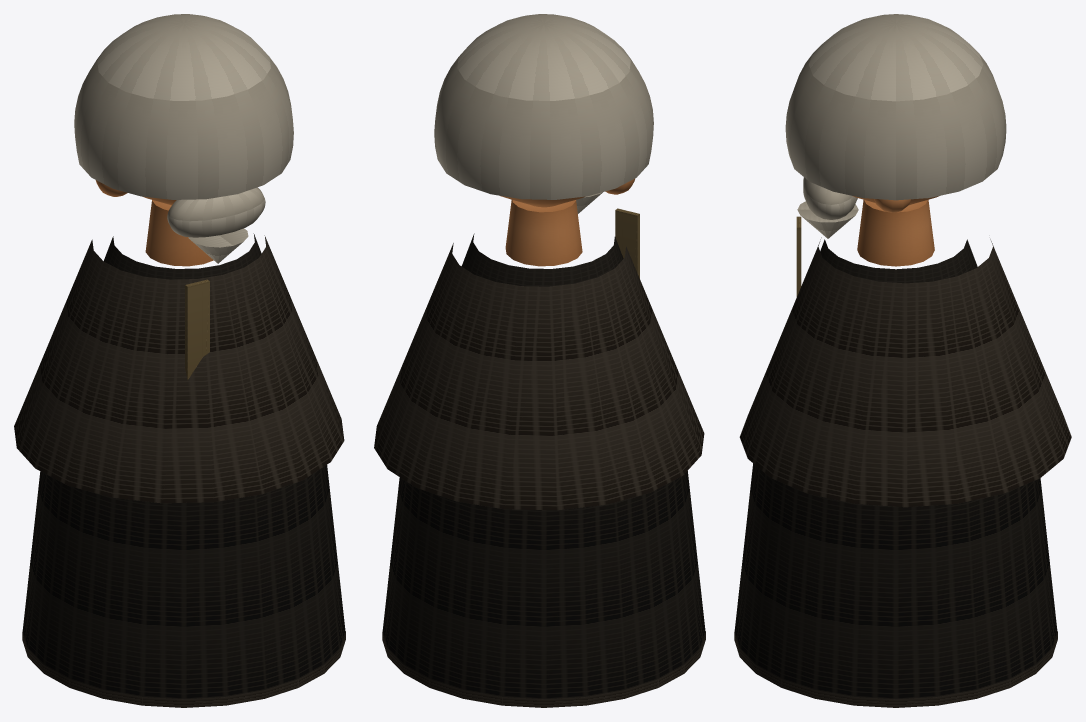
File: nathanael_pharisee.glb
The picture shows the model from 3 angles, left to right: view 1: azimuth 30°, elevation 25°; view 2: azimuth 150°, elevation 25°; view 3: azimuth 270°, elevation 25°; orthographic projection.
Visible parts, largest first — view 1: Character_nathanael_the_pharisee; view 2: Character_nathanael_the_pharisee; view 3: Character_nathanael_the_pharisee.
Part boxes in pixels (x1,y1,x2,y2): Character_nathanael_the_pharisee: (14, 14, 345, 707); Character_nathanael_the_pharisee: (374, 14, 705, 707); Character_nathanael_the_pharisee: (734, 14, 1071, 707).
Size of the model in its own units: 0.8799 by 1.8 by 0.8945.
12 materials, 7 textured.
